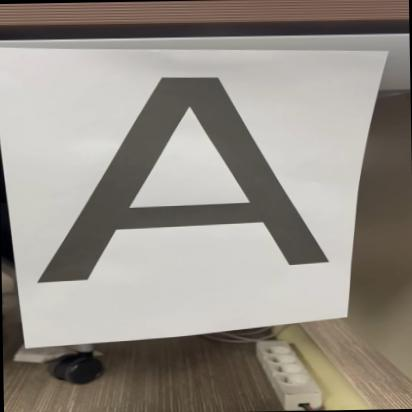seat: (11, 58, 353, 298)
